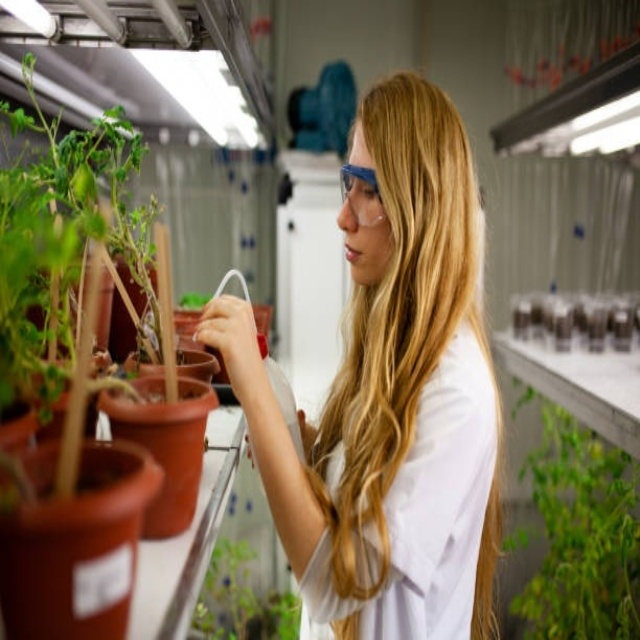Gafas: (339, 164, 388, 227)
Sin_guantes: (192, 285, 268, 398)
Sin_mascara: (343, 232, 372, 282)
